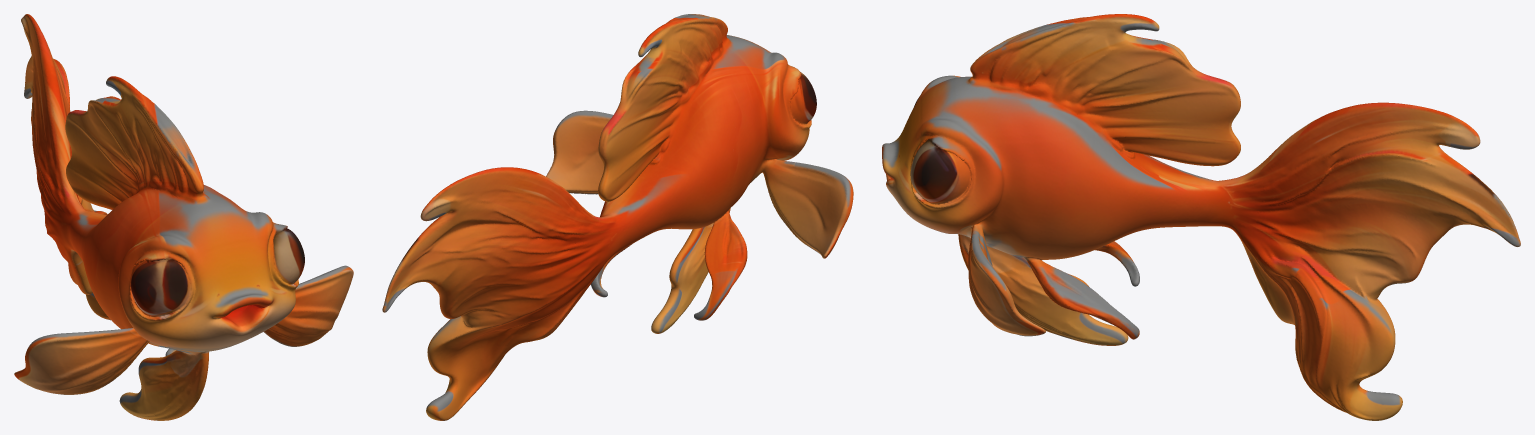
The model's file is goldfish.glb.
The picture shows the model from 3 angles, left to right: view 1: azimuth 30°, elevation 25°; view 2: azimuth 150°, elevation 25°; view 3: azimuth 270°, elevation 25°; orthographic projection. The views are drawn at different scales.
Visible parts, largest first — view 1: tripo_node_5c161498-9079-4701-8d23-d9753c04f960; view 2: tripo_node_5c161498-9079-4701-8d23-d9753c04f960; view 3: tripo_node_5c161498-9079-4701-8d23-d9753c04f960.
Part boxes in pixels (left/top/right/bottom): tripo_node_5c161498-9079-4701-8d23-d9753c04f960: left=14, top=14, right=353, bottom=420; tripo_node_5c161498-9079-4701-8d23-d9753c04f960: left=382, top=14, right=853, bottom=420; tripo_node_5c161498-9079-4701-8d23-d9753c04f960: left=882, top=14, right=1520, bottom=420.
Size of the model in its own units: 0.589 by 0.6113 by 1.
Materials: 1 (1 with a texture image).
